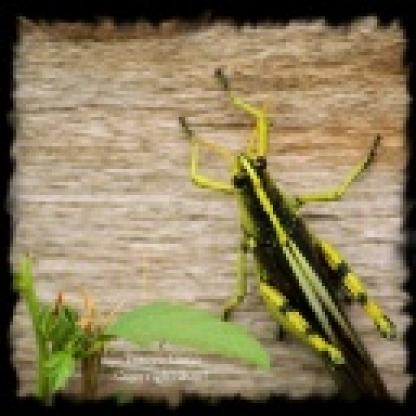grasshopper: (180, 67, 409, 402)
